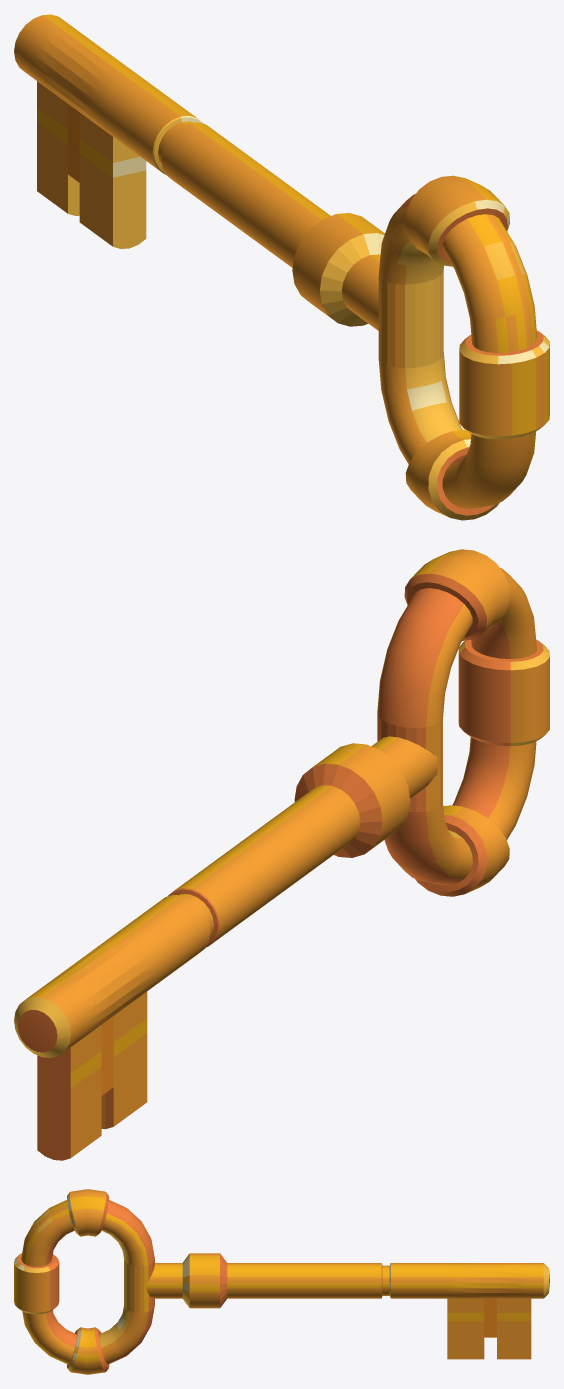
Rendered from PL_Assets_TreasureKey_Z2.fbx.
3 renders of one model, top to bottom at view 1: azimuth 30°, elevation 25°; view 2: azimuth 150°, elevation 25°; view 3: azimuth 270°, elevation 25°, orthographic. The views are drawn at different scales.
Visible parts, largest first — view 1: pTorus10; view 2: pTorus10; view 3: pTorus10.
Part boxes in pixels (x1,y1,x2,y2): pTorus10: (14,14,549,520); pTorus10: (14,549,549,1160); pTorus10: (14,1189,549,1374).
Size of the model in its own units: 3.25 by 11.62 by 31.28.
